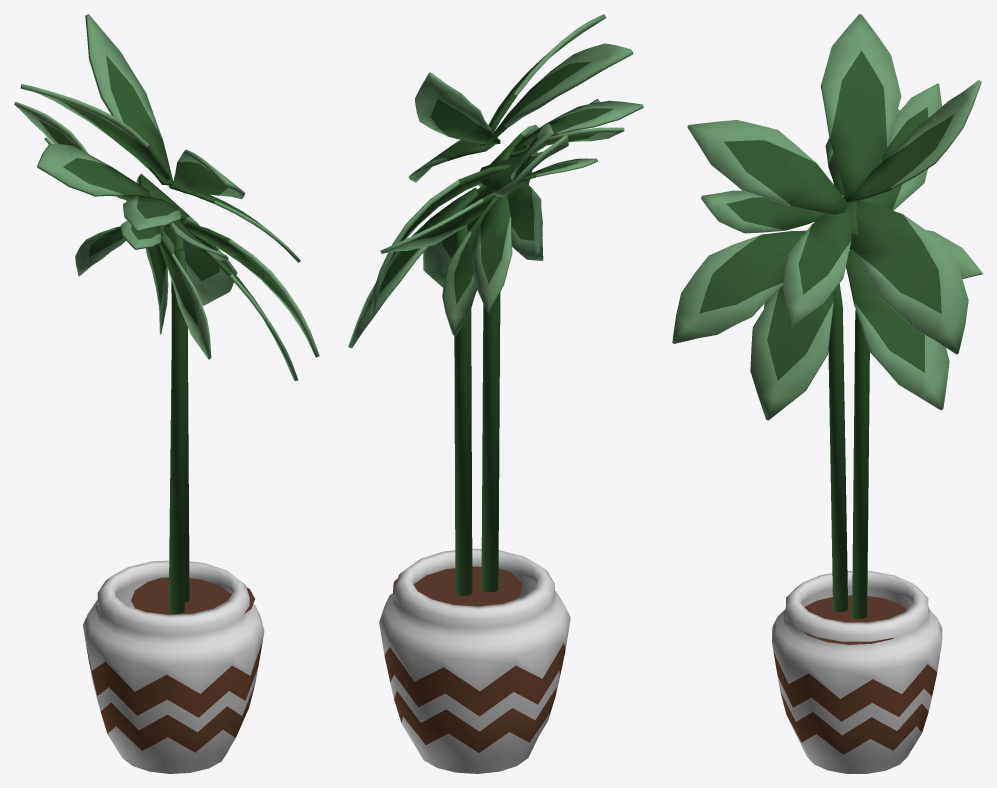
The model's file is TallPlant.fbx.
The picture shows the model from 3 angles, left to right: view 1: azimuth 30°, elevation 25°; view 2: azimuth 150°, elevation 25°; view 3: azimuth 270°, elevation 25°; orthographic projection. The views are drawn at different scales.
Parts seen in each view (by area): view 1: Circle.024; view 2: Circle.024; view 3: Circle.024.
Boxes of the visible parts, <box> form: Circle.024: <box>14,14,319,773</box>; Circle.024: <box>348,14,643,773</box>; Circle.024: <box>672,14,982,773</box>.
Size of the model in its own units: 110 by 302 by 127.
